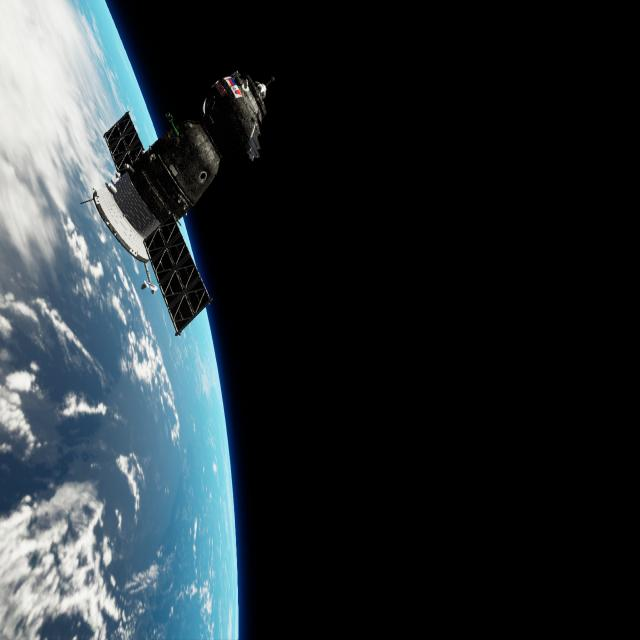Satellites revolving around earth: (1, 2, 241, 638), (80, 67, 274, 339)
